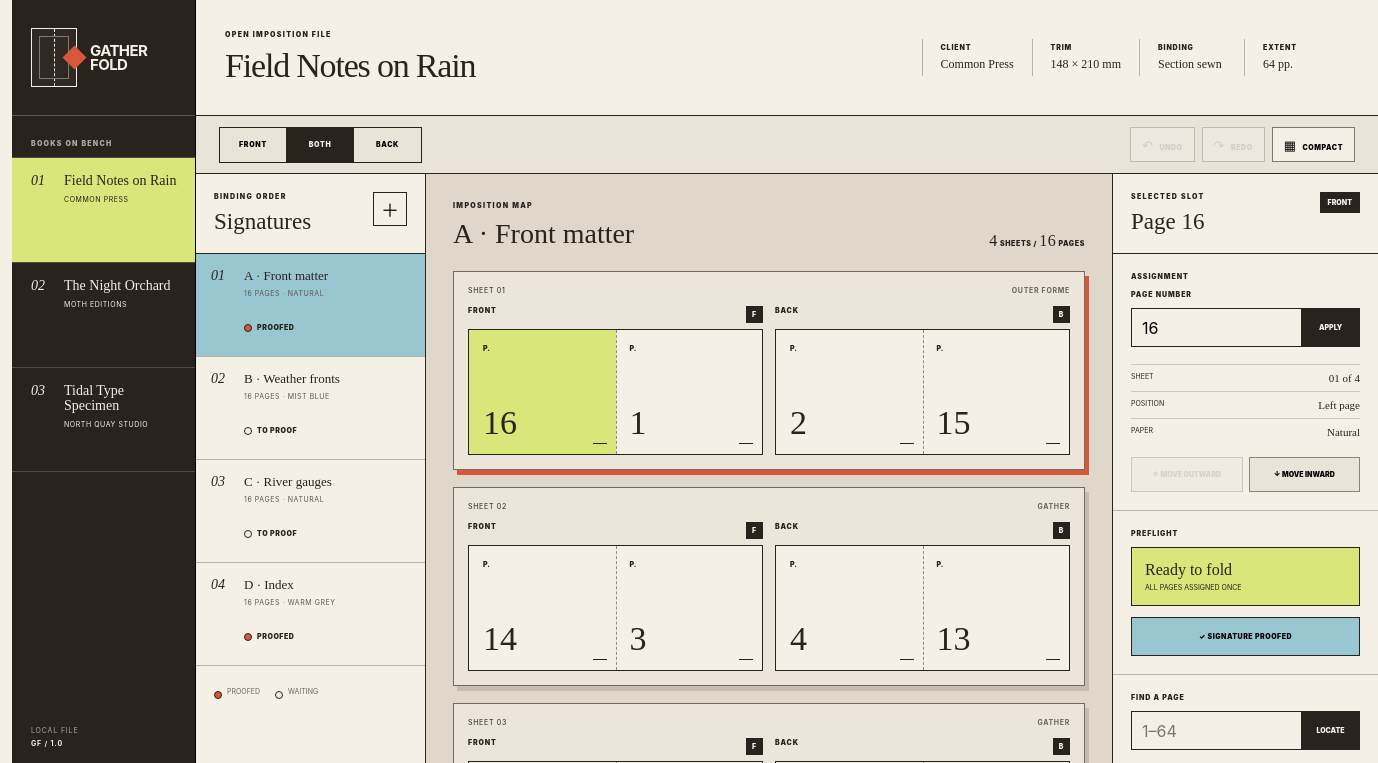
Test: Gatherfold workbench › switches book projects and resets the active signature
This screenshot has width=1378, height=763.
Click the button "02 The Night Orchard Moth Editions": x=104, y=314 [12,262,195,367]
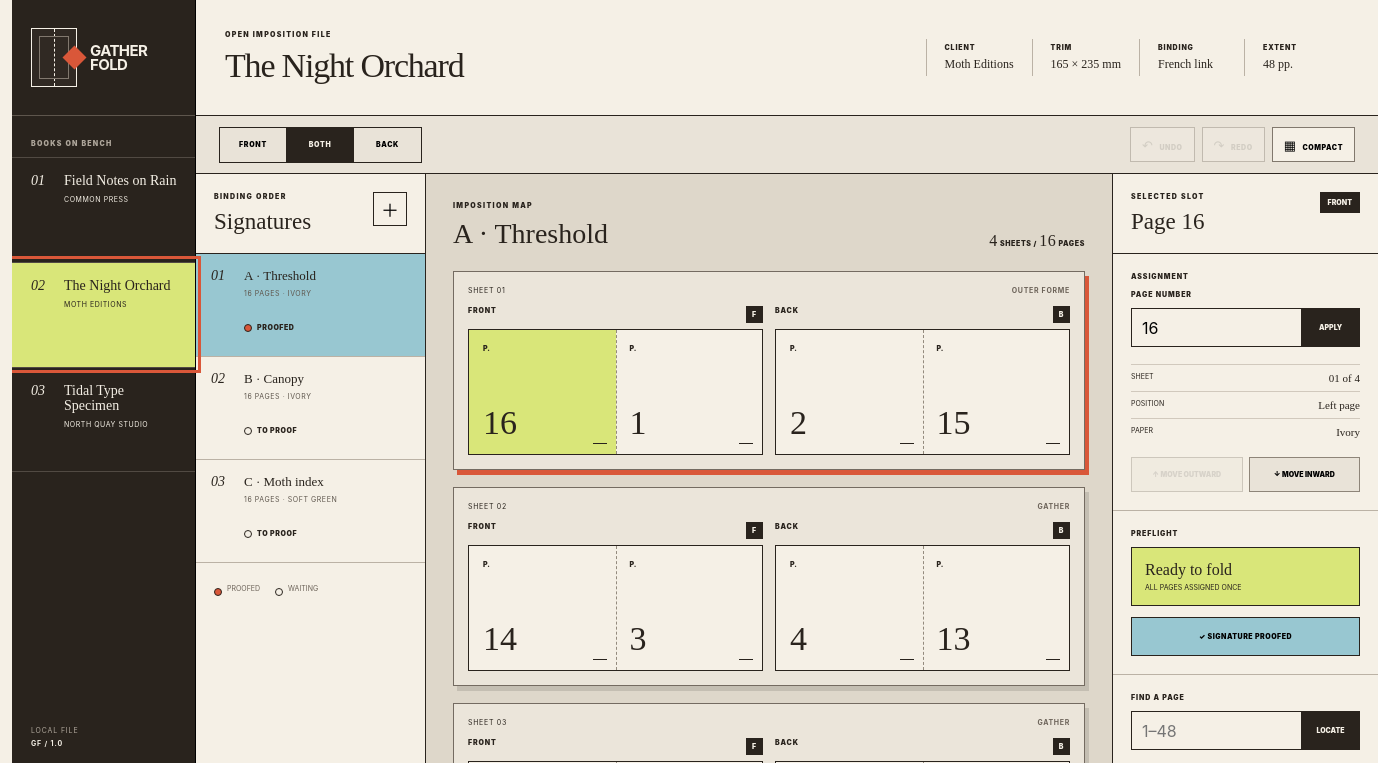
Check: the heading "Page 16" is shown, box [1131,209,1205,235]
Check: the heading "The Night Orchard" is shown, box [225,47,464,85]
Check: the heading "A · Threshold" is shown, box [453,218,608,250]
